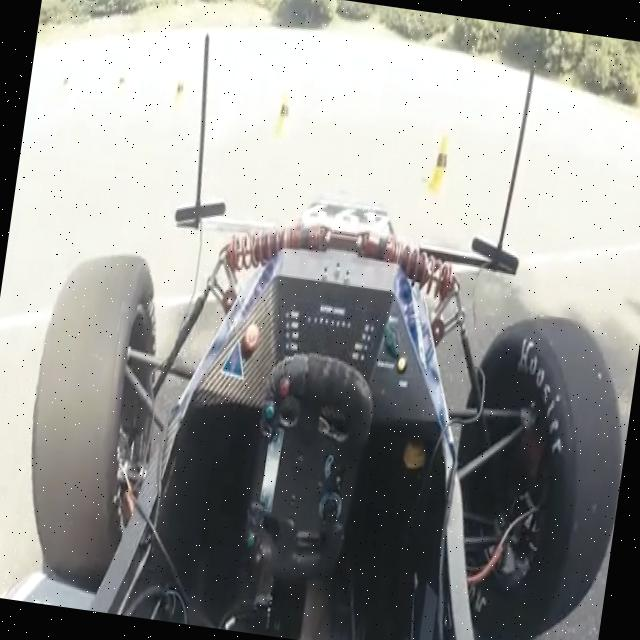yellow_cone: (427, 134, 458, 196), (274, 90, 296, 138)
